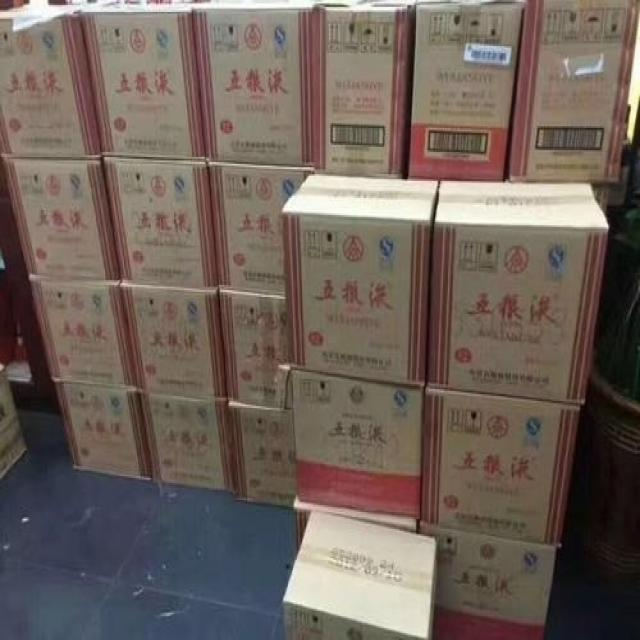box: (426, 179, 611, 404), (283, 174, 439, 387), (422, 389, 586, 548), (507, 0, 640, 184), (402, 0, 525, 181), (192, 0, 323, 166), (289, 369, 425, 521), (83, 0, 205, 162), (284, 512, 438, 640), (416, 521, 558, 640), (319, 0, 415, 176), (0, 3, 100, 159), (100, 157, 219, 288), (4, 155, 122, 283), (207, 162, 315, 295), (27, 276, 138, 391), (122, 285, 227, 401), (51, 381, 154, 481), (140, 391, 237, 495), (219, 288, 293, 411), (228, 399, 298, 510), (294, 498, 421, 558), (589, 183, 612, 217)
